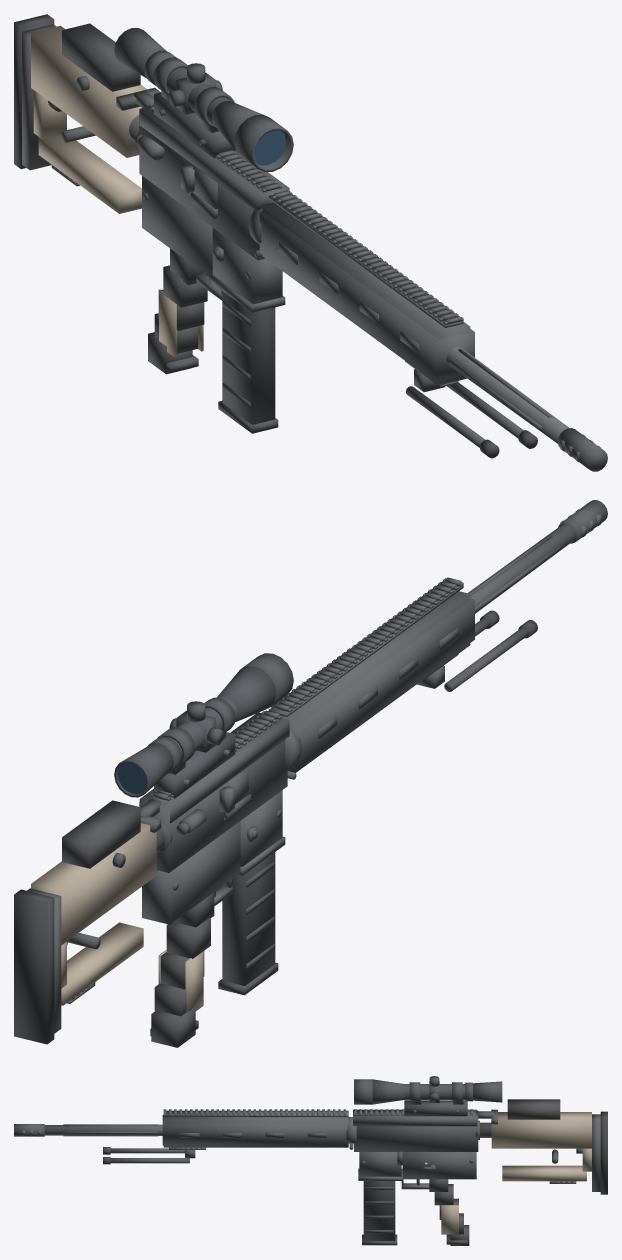
Rendered from dmr.glb.
3 views of the same model, one above another, from view 1: azimuth 30°, elevation 25°; view 2: azimuth 150°, elevation 25°; view 3: azimuth 270°, elevation 25° (orthographic). The views are drawn at different scales.
Parts seen in each view (by area): view 1: body, mag; view 2: body, mag; view 3: body, mag.
Boxes of the visible parts, x1=… form: body: x1=14, y1=14, x2=607, y2=471; mag: x1=218, y1=291, x2=278, y2=433; body: x1=14, y1=500, x2=607, y2=1047; mag: x1=218, y1=852, x2=278, y2=995; body: x1=14, y1=1076, x2=607, y2=1245; mag: x1=362, y1=1181, x2=397, y2=1245.
Size of the model in its own units: 0.0605 by 0.344 by 1.12.
